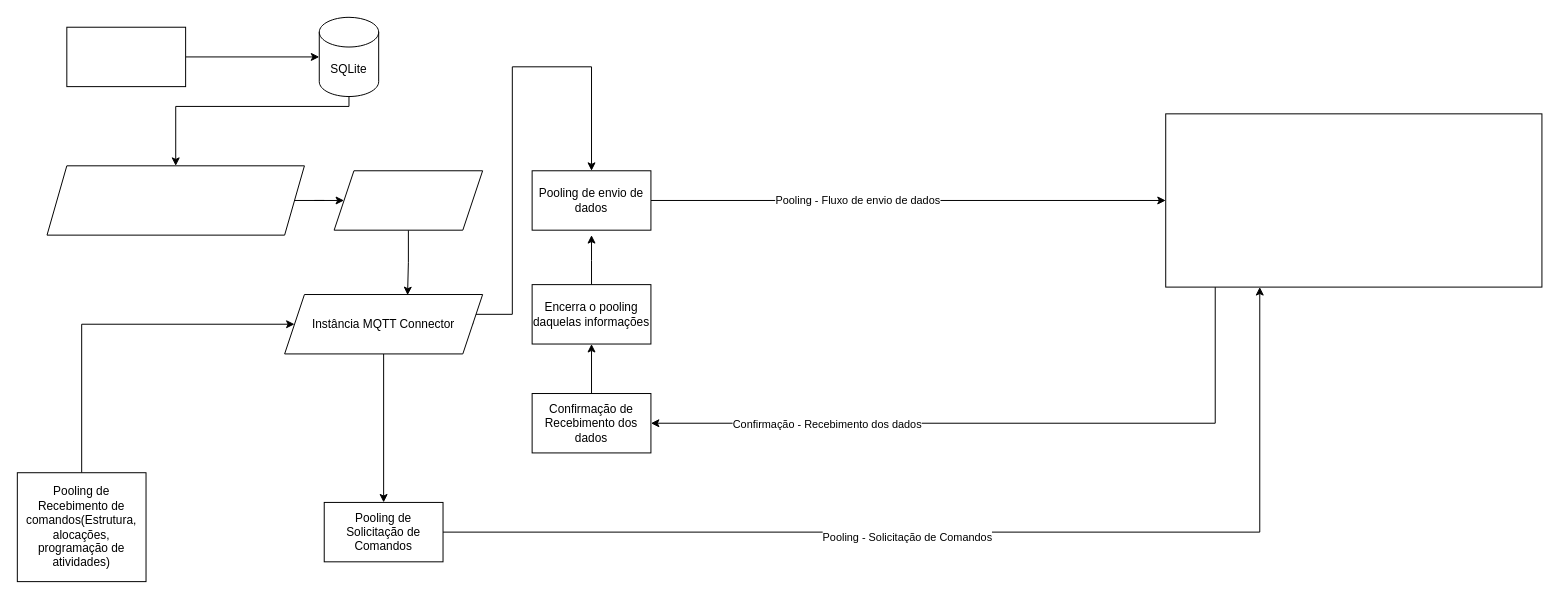
This 1559x599 diagram has some shape labels left out. The box of each missing label's shape, as (x1, y1, x2, y2) in pixels:
Formata em Protobuff: (333, 170, 483, 230)
Gera o Dado(GPS, Automação, Interação na tela): (66, 26, 186, 87)
Mosquitto: (1165, 113, 1542, 287)
Processo de Verificação de novos dados: (46, 165, 304, 235)
